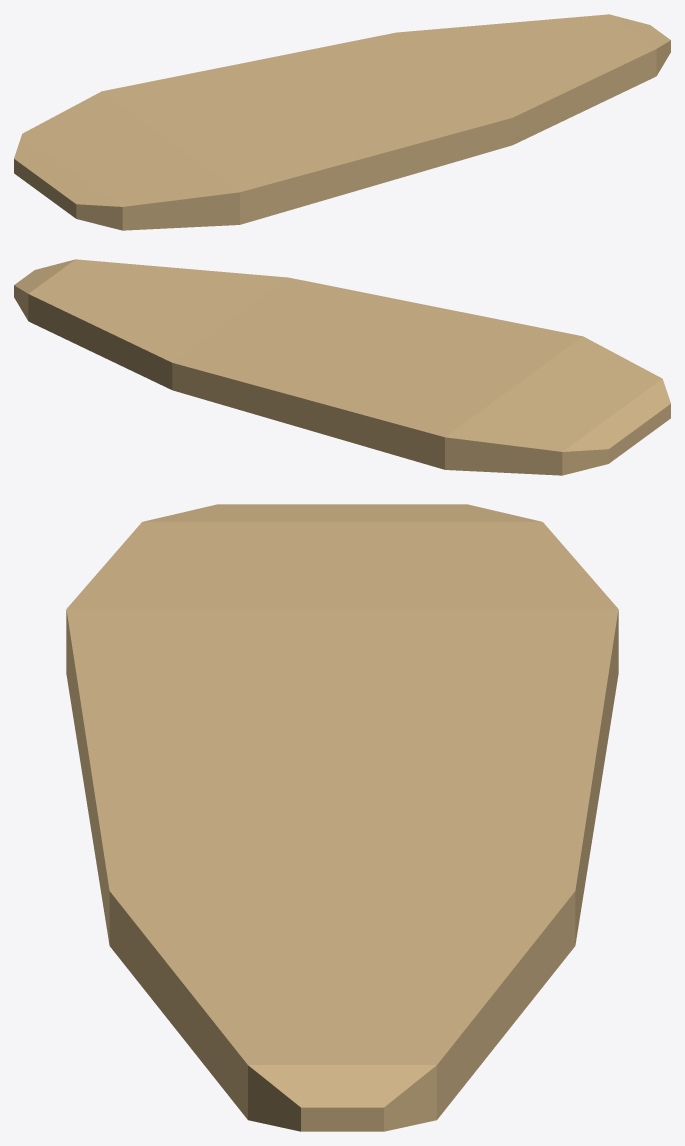
The model's file is seed.fbx.
3 renders of one model, top to bottom at view 1: azimuth 30°, elevation 25°; view 2: azimuth 150°, elevation 25°; view 3: azimuth 270°, elevation 25°, orthographic. The views are drawn at different scales.
Parts seen in each view (by area): view 1: Cube; view 2: Cube; view 3: Cube.
Part boxes in pixels (left/top/right/bottom): Cube: left=14, top=14, right=670, bottom=230; Cube: left=14, top=259, right=670, bottom=475; Cube: left=66, top=504, right=618, bottom=1131.
Size of the model in its own units: 369 by 18.67 by 143.
